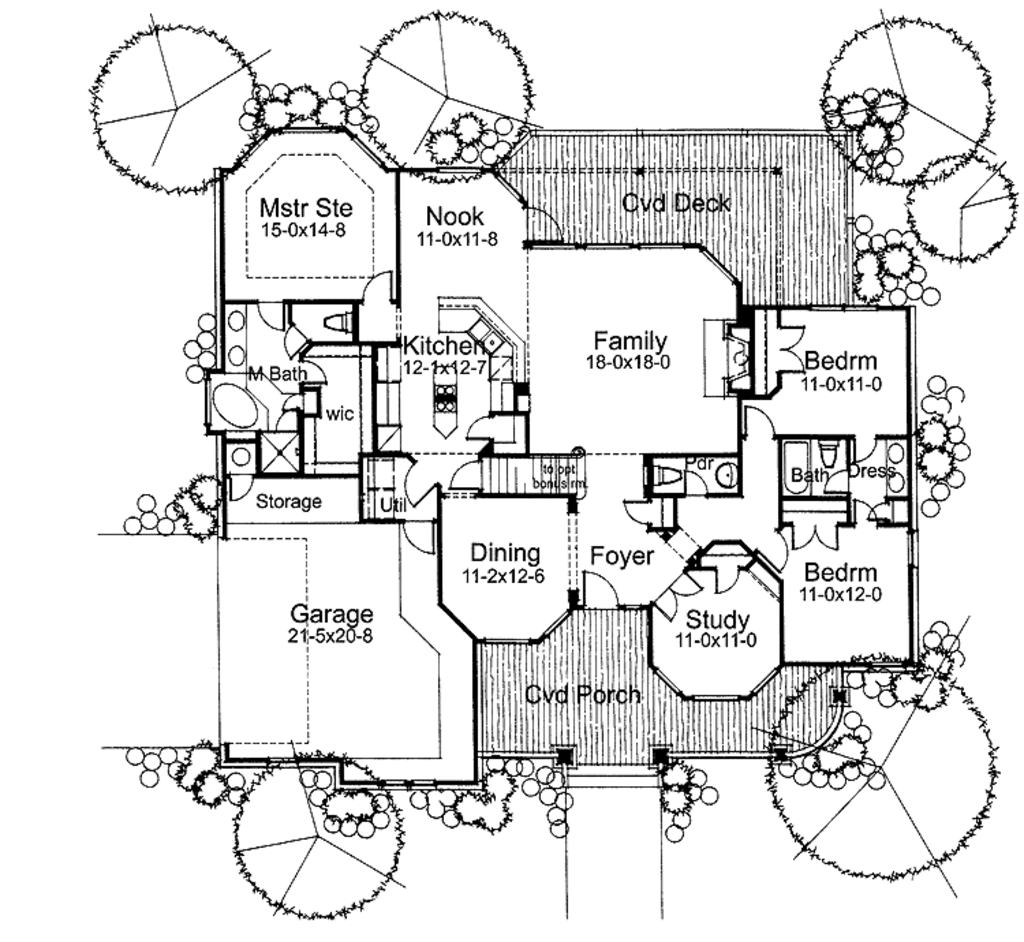door: (633, 566, 706, 623), (758, 320, 812, 381), (383, 510, 443, 559), (781, 516, 846, 553), (570, 568, 628, 609), (746, 534, 803, 575), (350, 263, 411, 300), (611, 497, 670, 535), (390, 459, 436, 507), (731, 403, 780, 447), (242, 303, 295, 334), (464, 406, 500, 448), (706, 565, 746, 600), (443, 460, 478, 490), (848, 497, 883, 526), (220, 475, 258, 501), (853, 437, 878, 468)
large_sink: (314, 303, 361, 341), (818, 440, 842, 476)
small_sink: (220, 307, 248, 376), (708, 453, 749, 495), (878, 438, 906, 493)
tub: (200, 375, 262, 434), (774, 435, 814, 497)
twin_sink: (453, 304, 528, 363)
